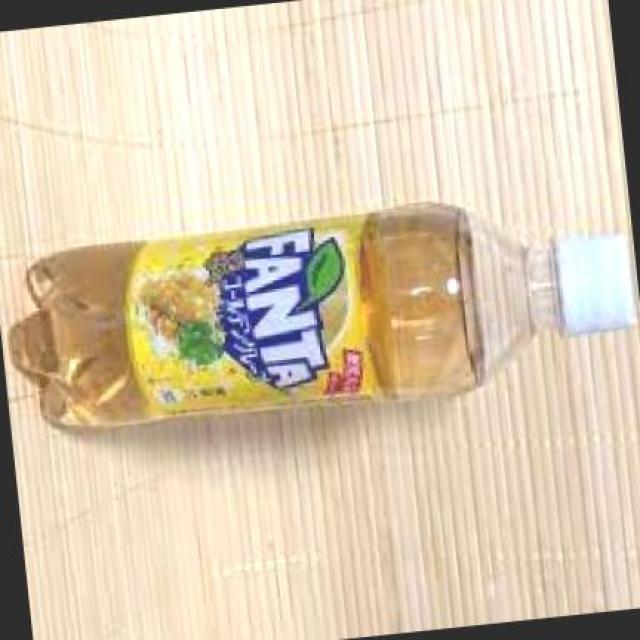high: (12, 203, 634, 427)
